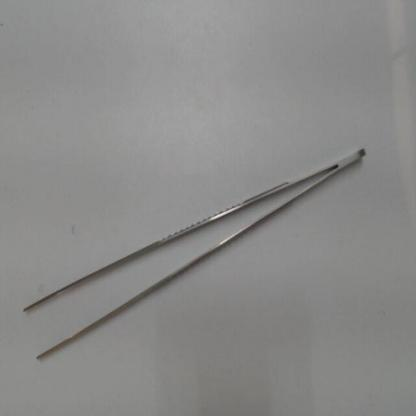DeBakey Dissector: (11, 134, 382, 383)
